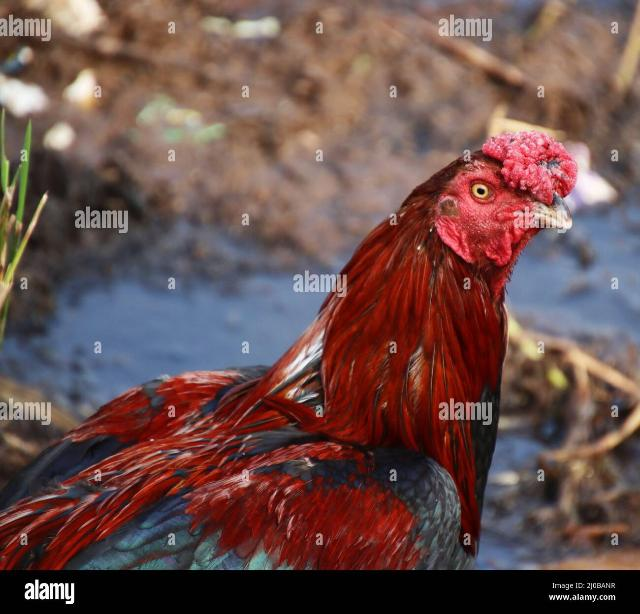Chicken: (0, 128, 579, 573)
